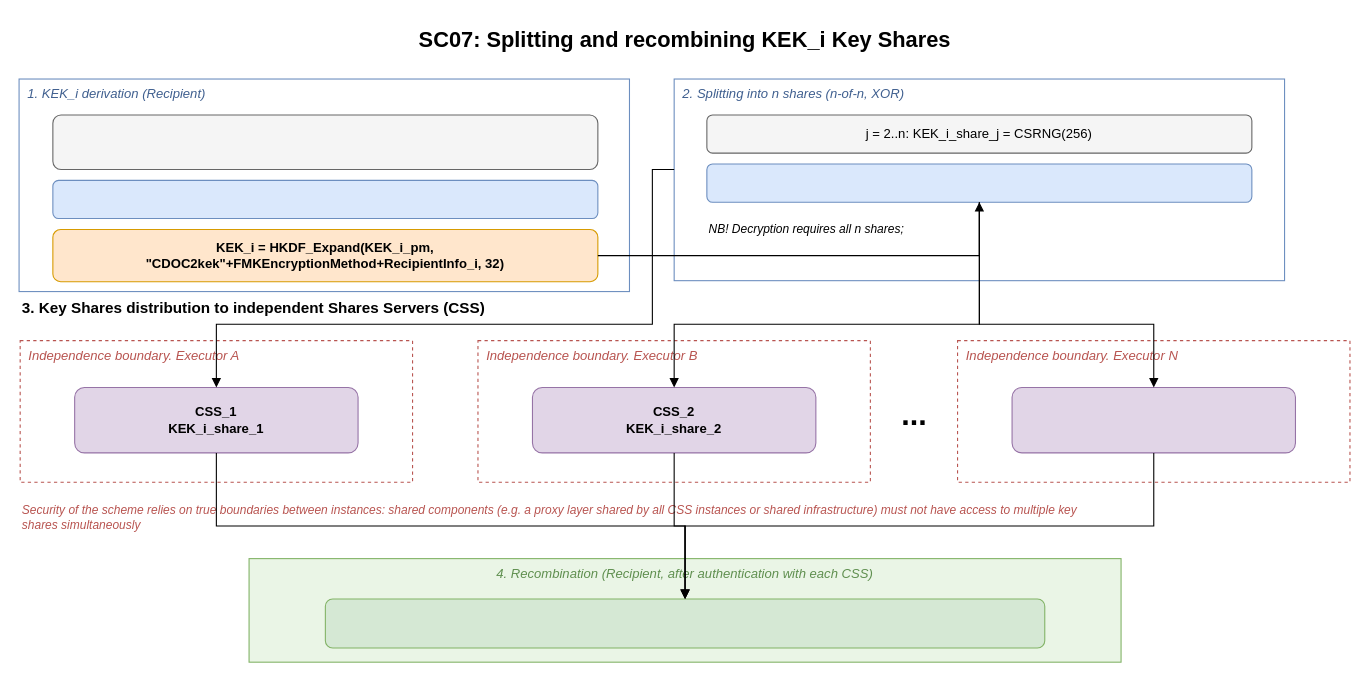
The diagram is 1369 pixels wide and 681 high, and some of its shapes have lost their labels. Here are the shapes that lost their labels. From the top down, the centre of each, then its label:
At point (325, 141): "KeyMaterialSalt_i = CSRNG(256) KeyMaterial_i = CSRNG(256)".
At point (325, 199): "KEK_i_pm = HKDF_Extract(salt_i, material_i)".
At point (979, 182): "KEK_i_share_1 = XOR(KEK_i, share_2, ..., share_n)".
At point (1153, 419): "CSS_n KEK_i_share_n".
At point (684, 623): "KEK_i = XOR(KEK_i_share_1, KEK_i_share_2, ..., KEK_i_share_n)".
